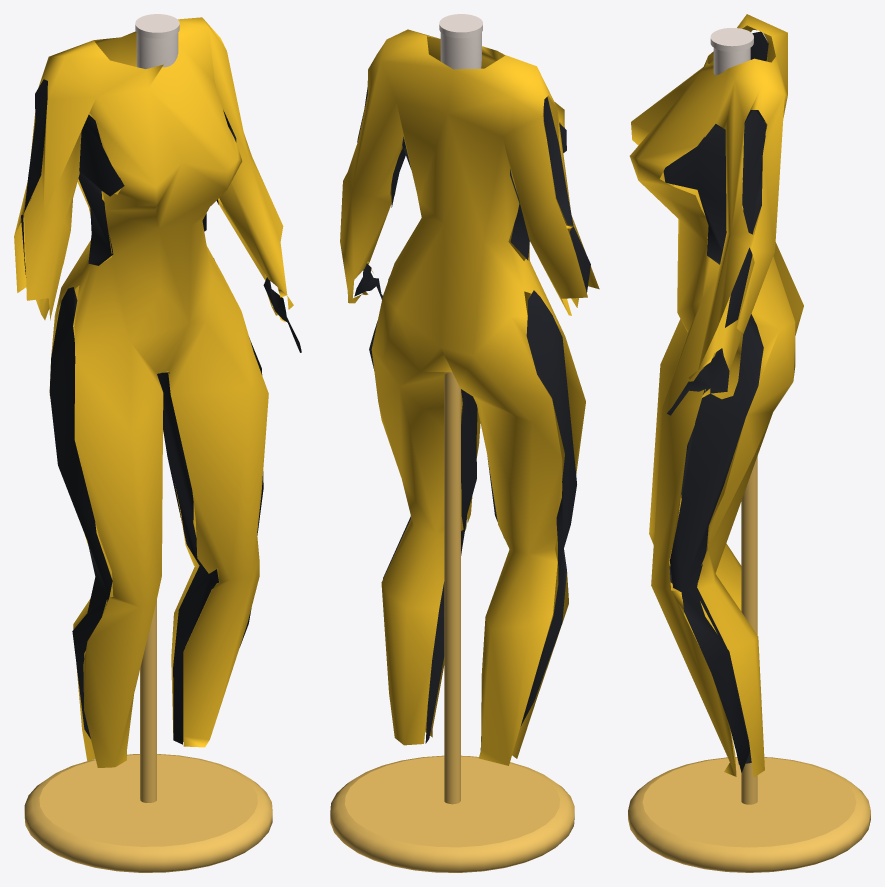
File: rain.suit.action-yellow.lod1.glb
3 renders of one model, left to right at view 1: azimuth 30°, elevation 25°; view 2: azimuth 150°, elevation 25°; view 3: azimuth 270°, elevation 25°, orthographic. The views are drawn at different scales.
Parts seen in each view (by area): view 1: Foundation.Action.ContinuousSuit, stand_base, Foundation.Action.OuterSeamStripes, stand_stem, stand_torso, stand_neck_cap; view 2: Foundation.Action.ContinuousSuit, stand_base, Foundation.Action.OuterSeamStripes, stand_stem, stand_torso, stand_neck_cap; view 3: Foundation.Action.ContinuousSuit, Foundation.Action.OuterSeamStripes, stand_base, stand_stem, stand_neck_cap, stand_torso.
Part boxes in pixels (x1,y1,x2,y2): Foundation.Action.ContinuousSuit: (14,17,293,767); stand_base: (24,754,272,872); Foundation.Action.OuterSeamStripes: (21,79,301,744); stand_stem: (140,600,156,802); stand_torso: (136,33,178,69); stand_neck_cap: (135,14,179,38); Foundation.Action.ContinuousSuit: (340,29,599,765); stand_base: (330,755,574,872); Foundation.Action.OuterSeamStripes: (354,87,590,750); stand_stem: (444,372,460,804); stand_torso: (440,32,481,69); stand_neck_cap: (439,14,482,38); Foundation.Action.ContinuousSuit: (629,14,803,777); Foundation.Action.OuterSeamStripes: (663,31,768,772); stand_base: (628,757,870,872); stand_stem: (741,456,757,804); stand_neck_cap: (710,28,753,51); stand_torso: (713,48,750,75).
Bounding box in the file's own units: 0.2485 × 0.75 × 0.2091.
